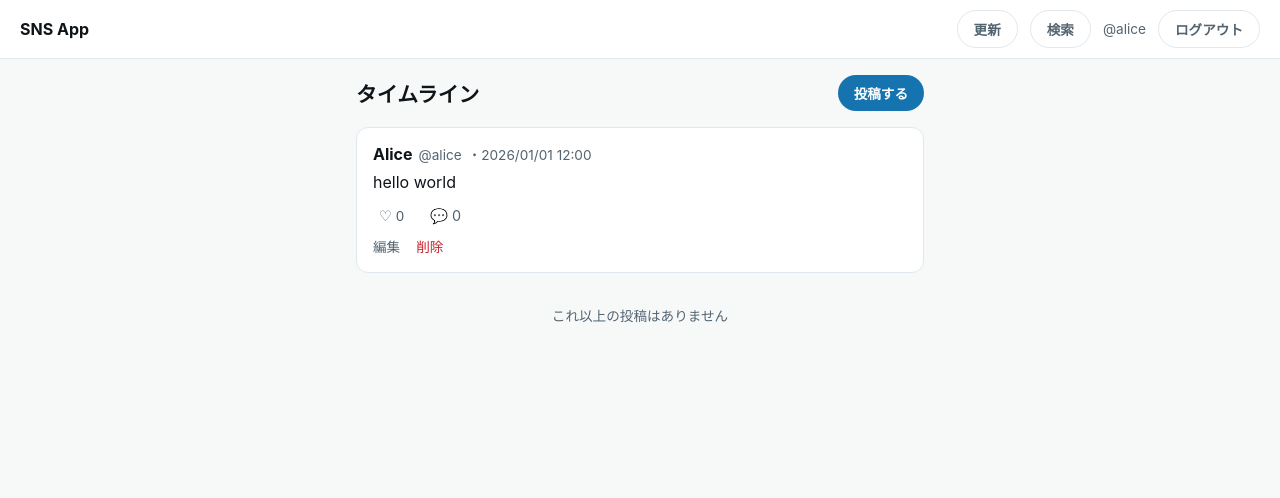
Scenario: TimelinePage › clicking manual refresh merges new posts to the top and scrolls to top
Check: the text "hello world" is shown, box [373,172,456,192]
Click the button "更新": (987, 29) [957,10,1018,48]
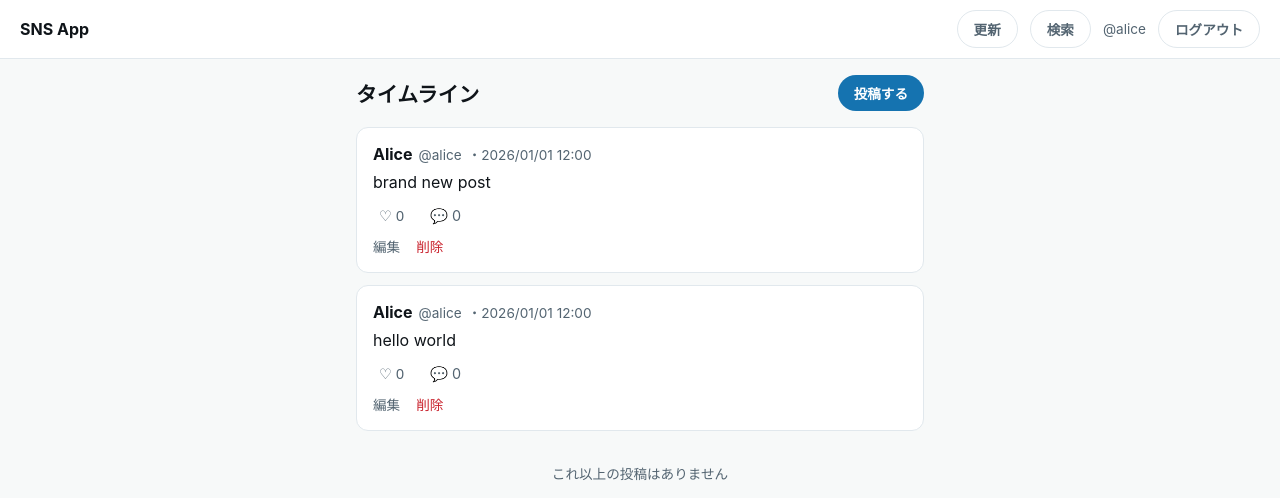
Check: the text "brand new post" is shown, box [373,172,491,192]
